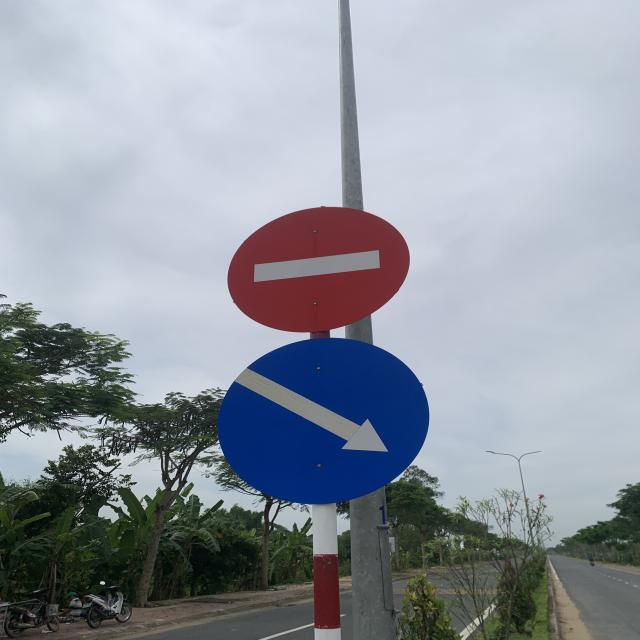Cam_Di_Nguoc_Chieu: (222, 202, 412, 336)
Chi_Huong_Di_Phai: (216, 334, 432, 506)
